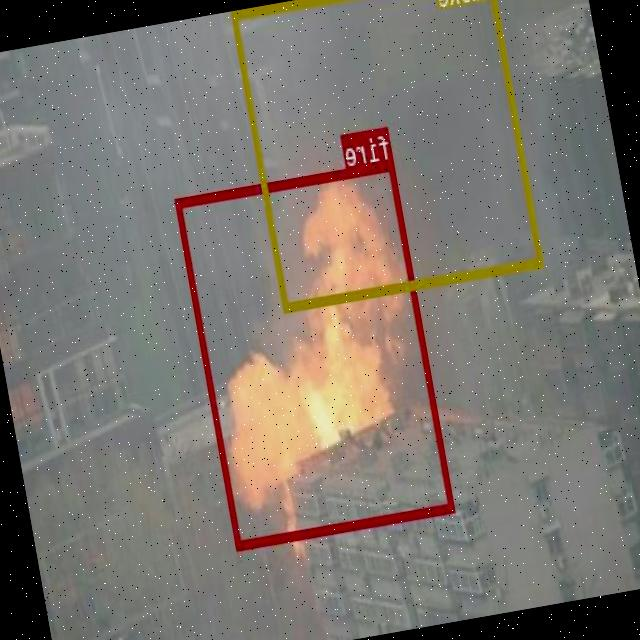fire: (176, 158, 456, 549)
smoke: (232, 0, 545, 311)
